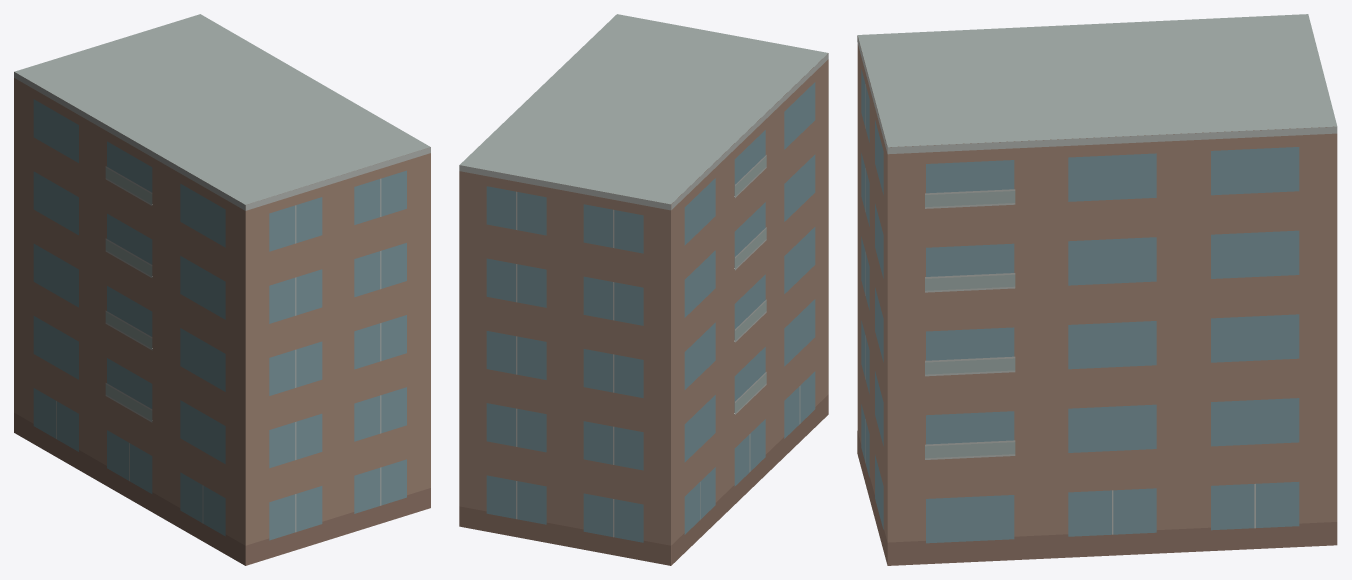
File: survey-upis-32890990.glb
3 renders of one model, left to right at view 1: azimuth 30°, elevation 25°; view 2: azimuth 150°, elevation 25°; view 3: azimuth 270°, elevation 25°, orthographic. The views are drawn at different scales.
Visible parts, largest first — view 1: survey-upis-32890990.tmp; view 2: survey-upis-32890990.tmp; view 3: survey-upis-32890990.tmp.
Boxes of the visible parts, x1=… form: survey-upis-32890990.tmp: x1=14, y1=14, x2=430, y2=565; survey-upis-32890990.tmp: x1=459, y1=14, x2=828, y2=565; survey-upis-32890990.tmp: x1=857, y1=14, x2=1337, y2=565.
Size of the model in its own units: 9.97 by 14.6 by 15.18.
